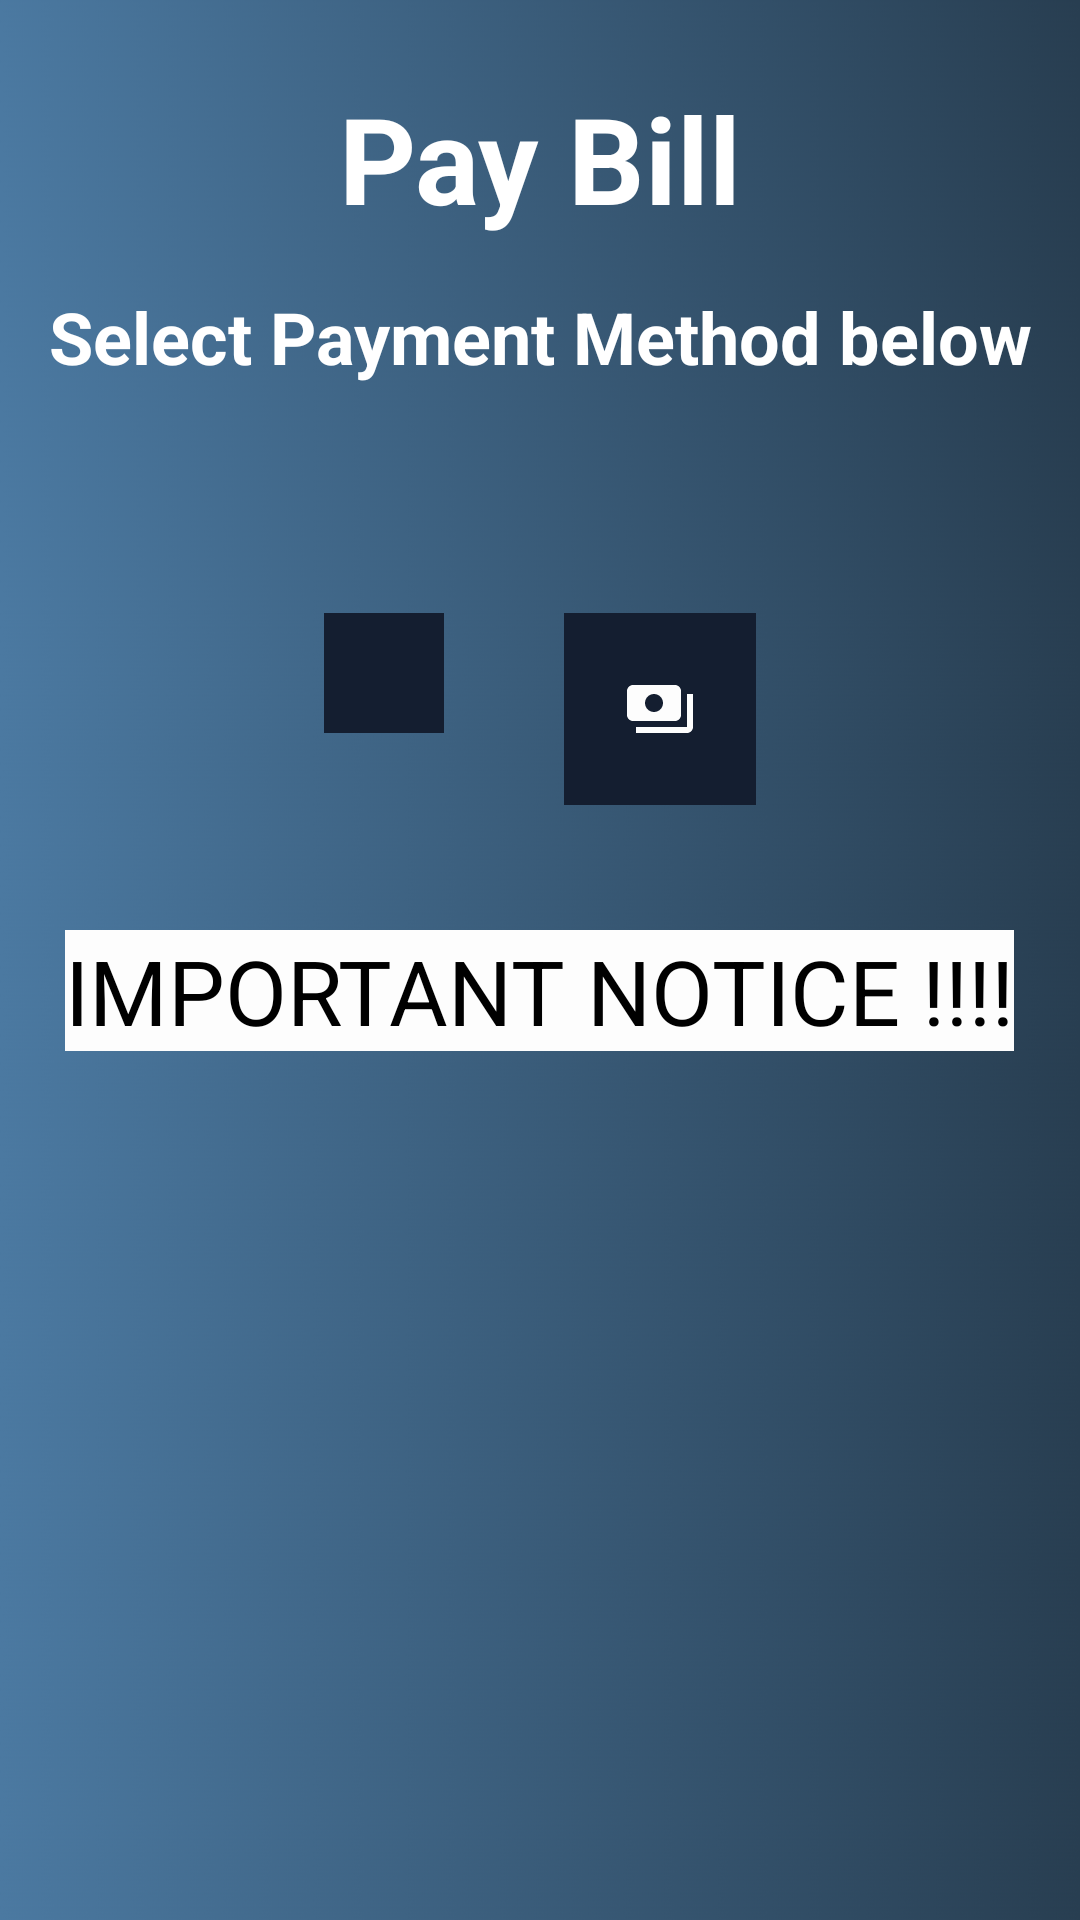

Where to tap for icons on this 1080*1920 app screen, as point (x, y):
Pay with PayBill: point (660, 709)
